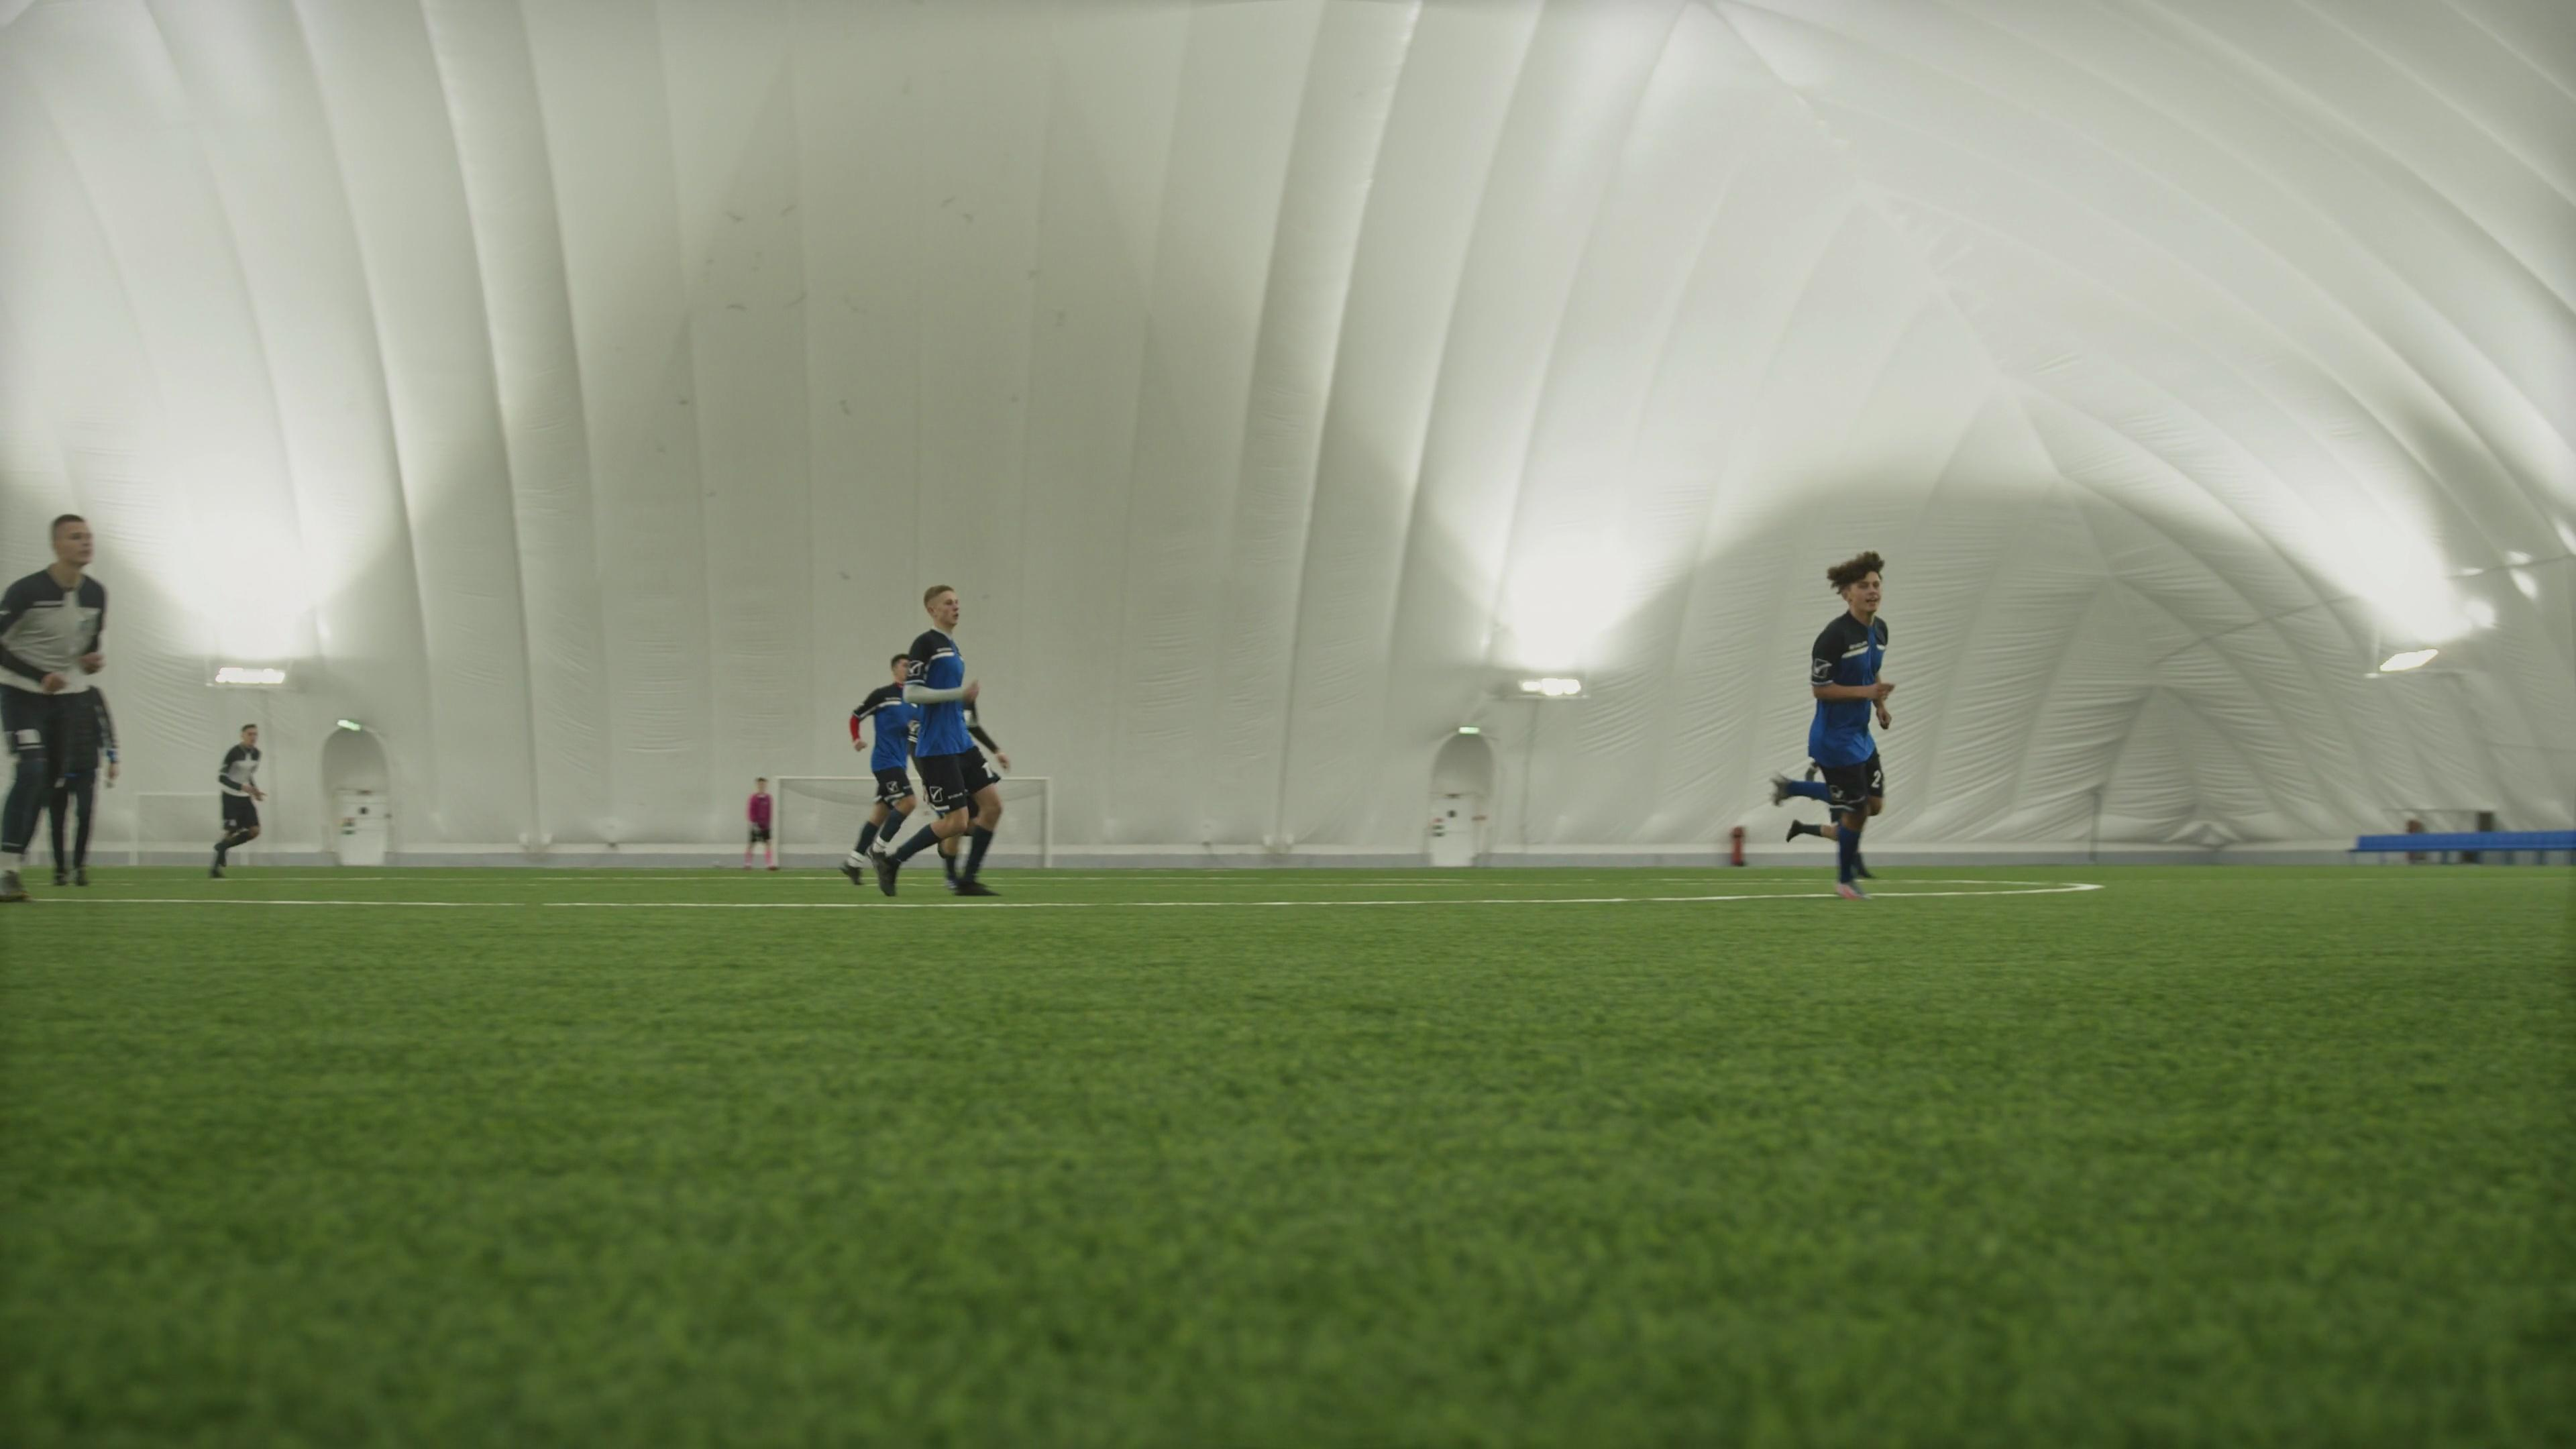team1: (1769, 550, 1895, 895), (886, 582, 1007, 902)
team1gk: (743, 777, 777, 872)
team2: (0, 513, 111, 893), (211, 720, 269, 878)
